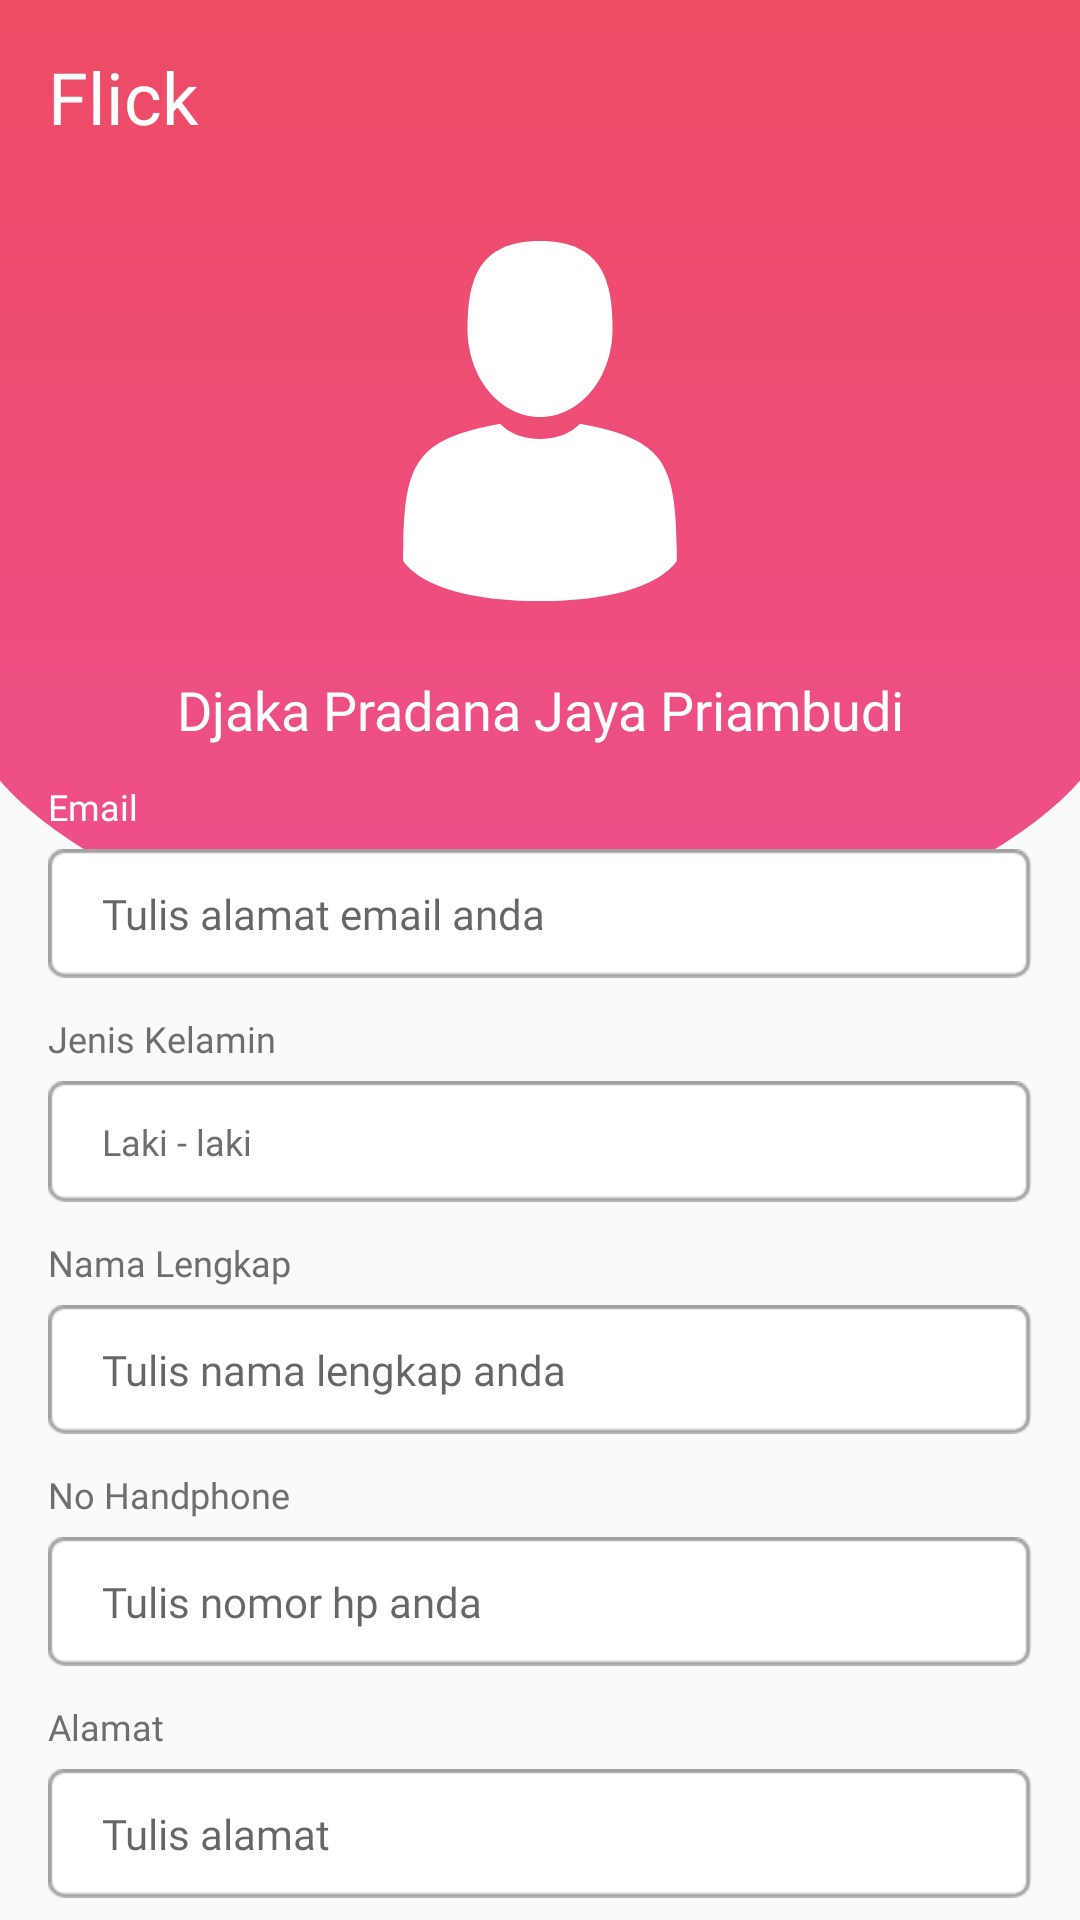

Icons on this 1080 × 1920 Android screen, each with its box as detection(x1, y1, x2, y2):
profile: detection(403, 241, 677, 601)
